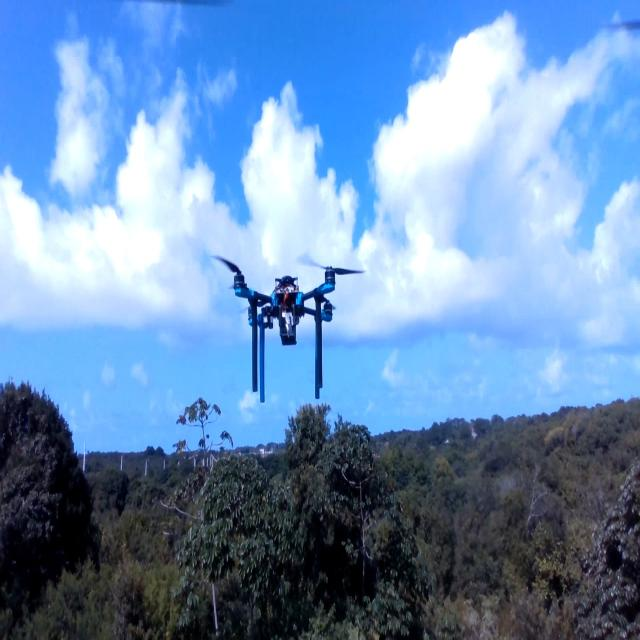-uav-: (210, 244, 372, 415)
